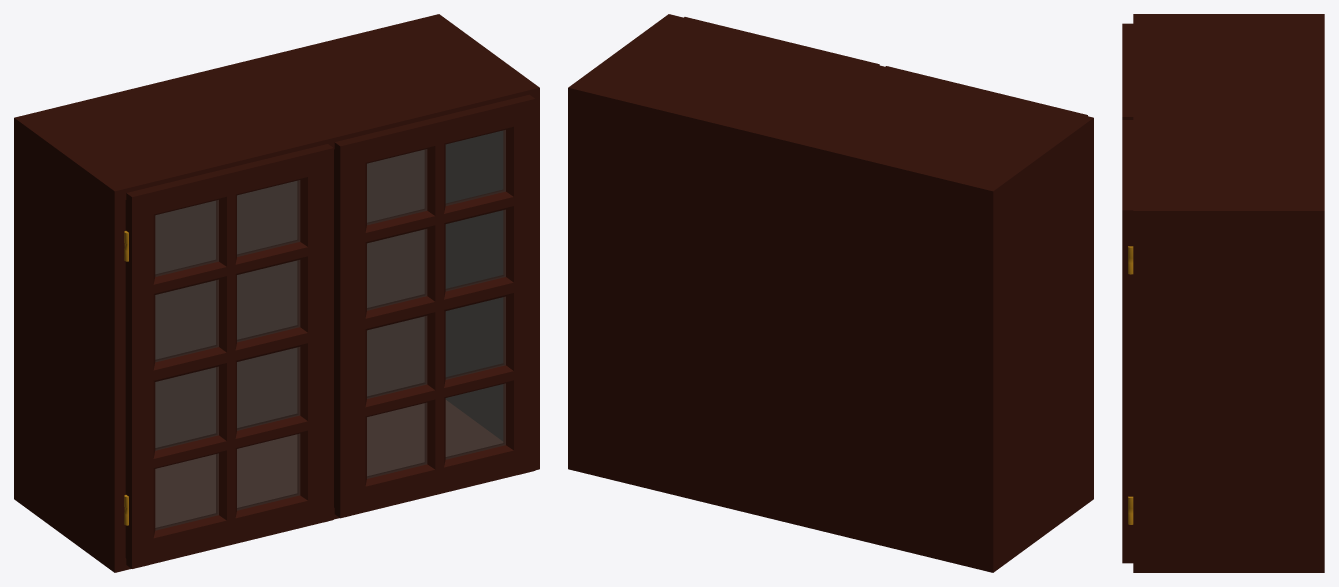
The model's file is Safe.fbx.
3 views of the same model, side by side, from view 1: azimuth 30°, elevation 25°; view 2: azimuth 150°, elevation 25°; view 3: azimuth 270°, elevation 25° (orthographic). The views are drawn at different scales.
Visible parts, largest first — view 1: Door (×2), Wardrobe003; view 2: Wardrobe003; view 3: Wardrobe003, Door (×2).
Boxes of the visible parts, x1=… form: Door (×2): x1=125, y1=94, x2=535, y2=568; Wardrobe003: x1=14, y1=14, x2=539, y2=572; Wardrobe003: x1=568, y1=14, x2=1093, y2=572; Wardrobe003: x1=1133, y1=14, x2=1324, y2=572; Door (×2): x1=1122, y1=23, x2=1133, y2=563.
Size of the model in its own units: 78 by 66.91 by 33.83.
